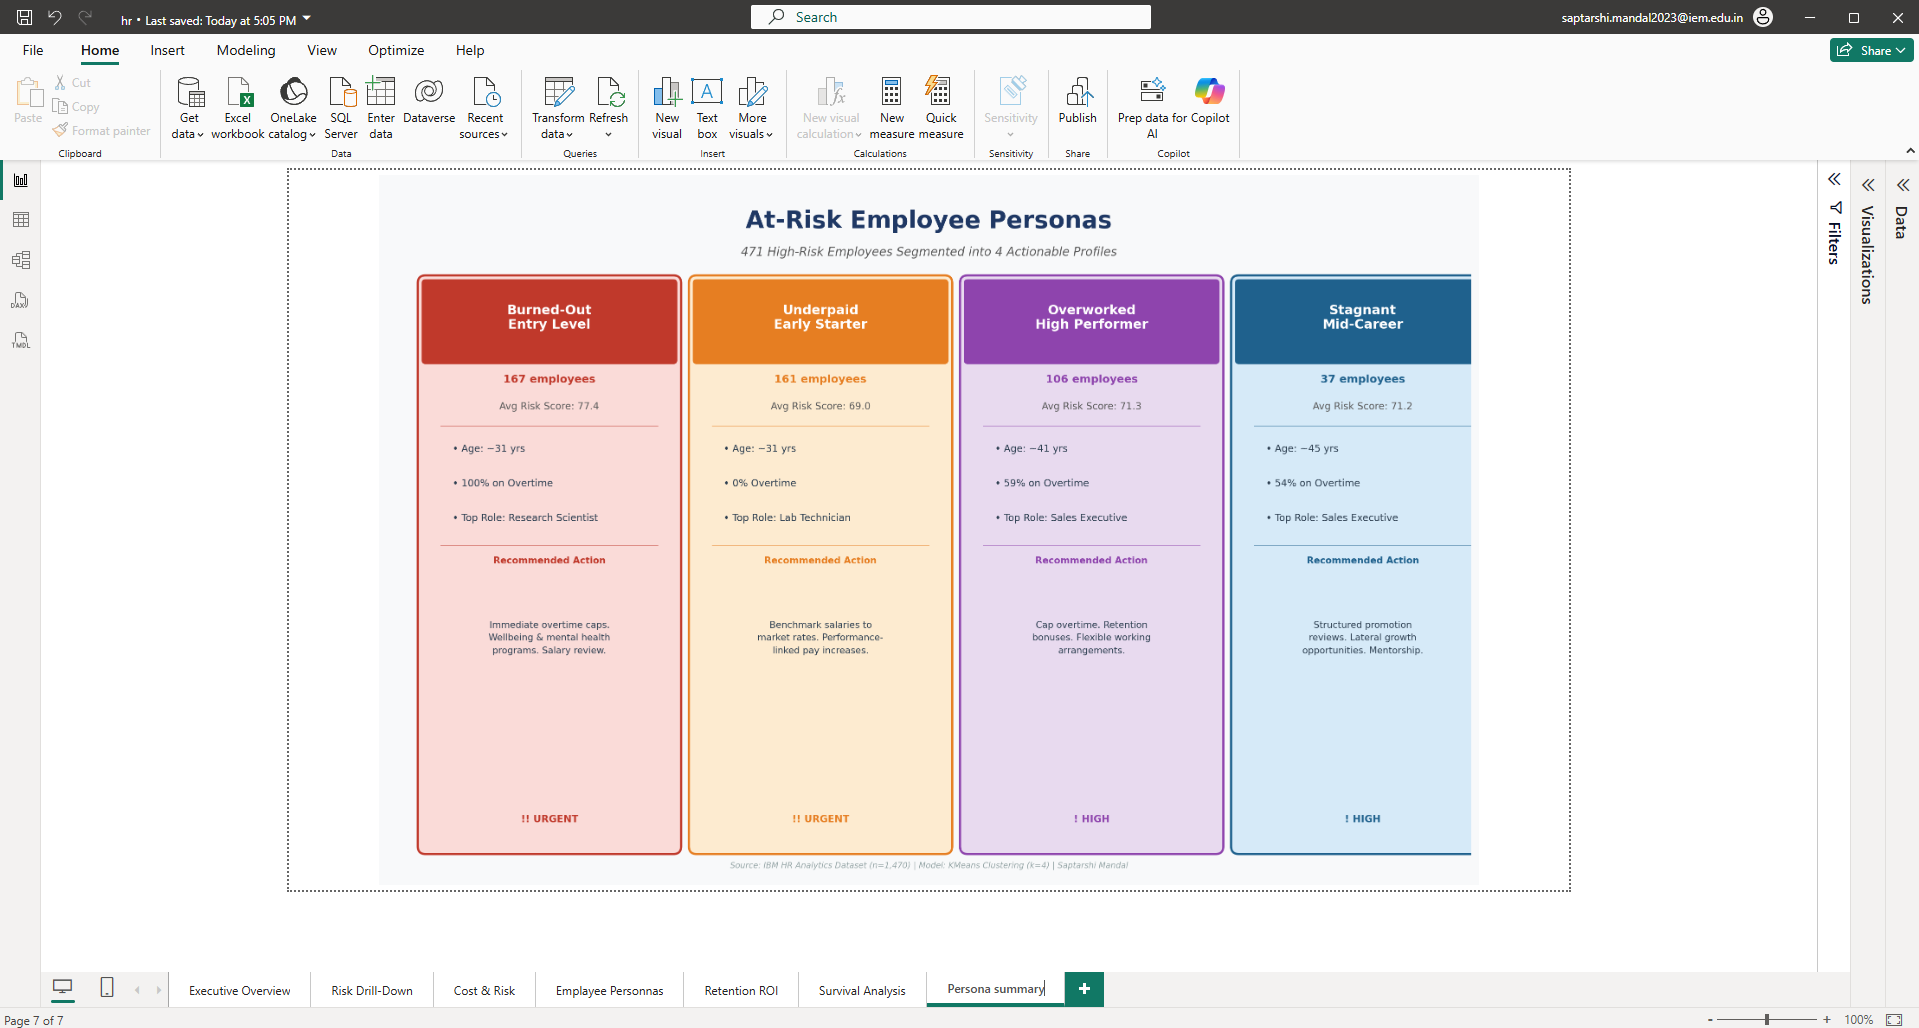

Layout of this report page (visuals, bound fields, positions):
{"tool":"powerbi","page":{"name":"Persona summary","canvas":[1280,720],"ordinal":6},"visuals":[{"type":"image","box":[0,0,1279.7,720],"z":0}]}

Visuals, with their boxes on the page's 1280x720 design canvas (x1, y1, x2, y2). These are canvas units, not pixel positions in the 1919x1028 screenshot, which may show the page scaled, cropped or inside an application window:
image: detection(0, 0, 1280, 720)
